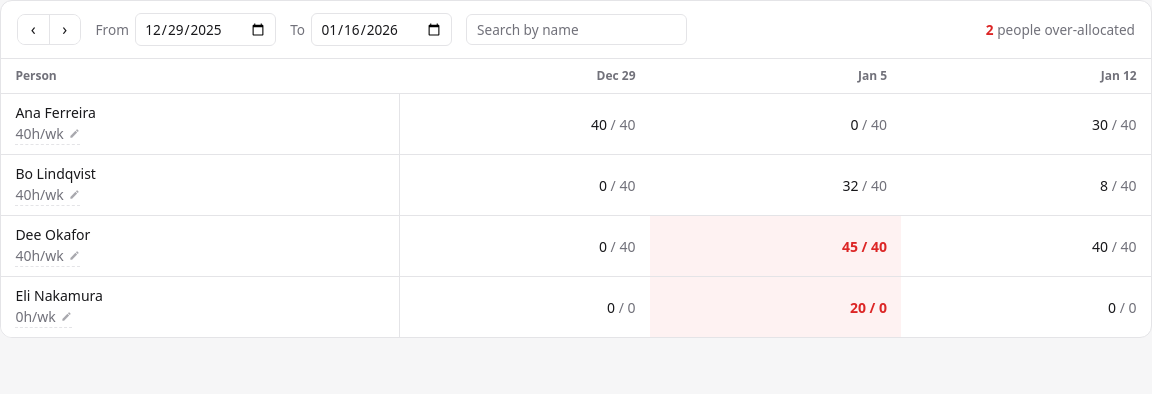
Test case: failure handling › clears the error after a later successful save
Expected: the column heading "Ana Ferreira 40h/wk" is shown, [1,94,400,155]
Step 1. Click the button "40h/wk" below "Ana Ferreira" → (48, 135), box [15,124,80,145]
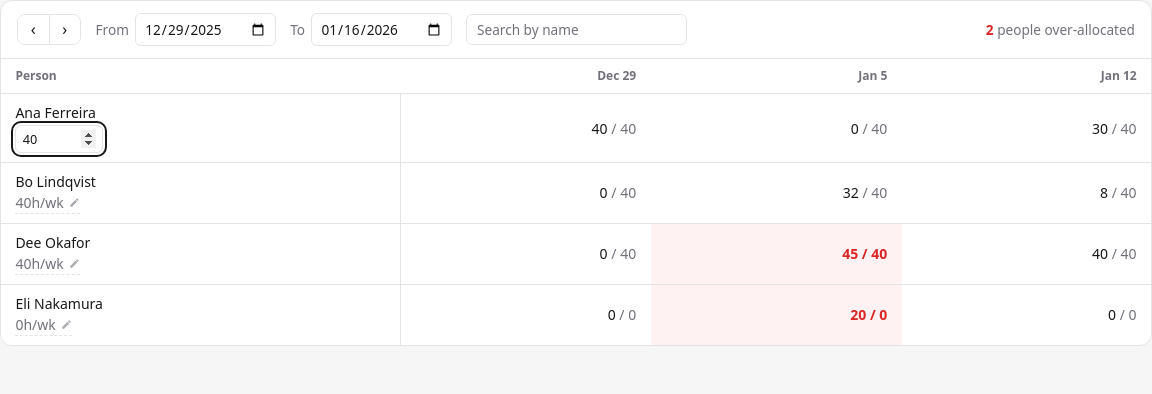
Step 2. Replace the text in the number field named "Weekly hours for Ana Ferreira" with "50" → (59, 139), box [15,125,103,153]
Then press Enter
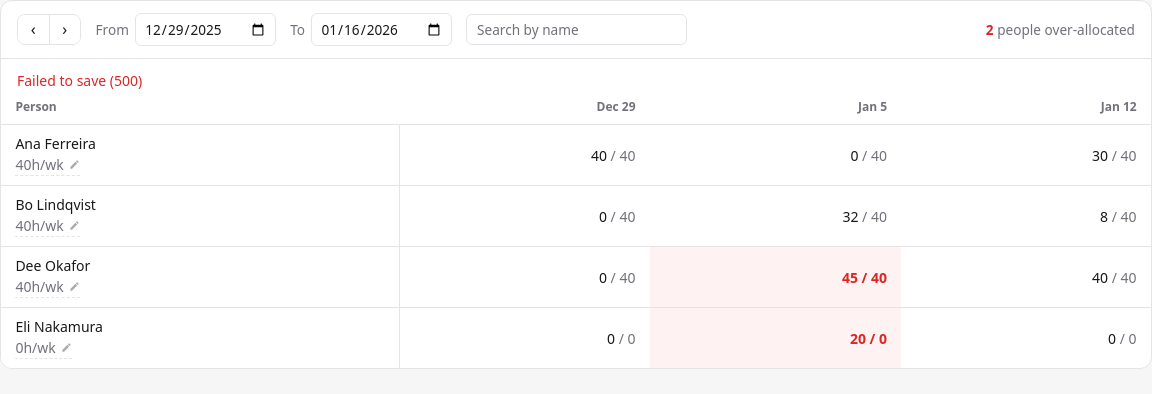
Now the text "Failed to save (500)" is shown, box [17,71,142,90]
Step 3. Click the button "40h/wk" below "Ana Ferreira" → (48, 166), box [15,155,80,176]
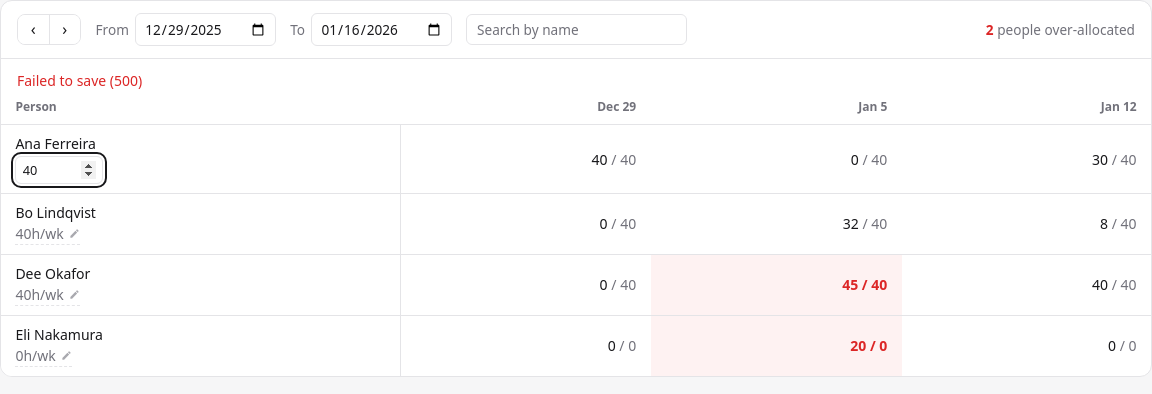
Step 4. Replace the text in the number field named "Weekly hours for Ana Ferreira" with "44" → (59, 170), box [15,156,103,184]
Then press Enter
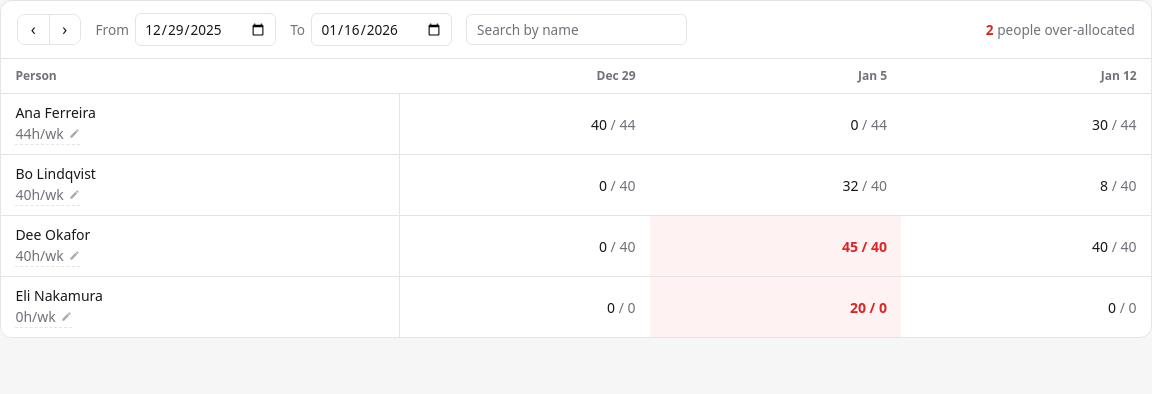
Now the text "Failed to save" is gone
Now the button "44h/wk" is shown, box [15,124,80,145]
